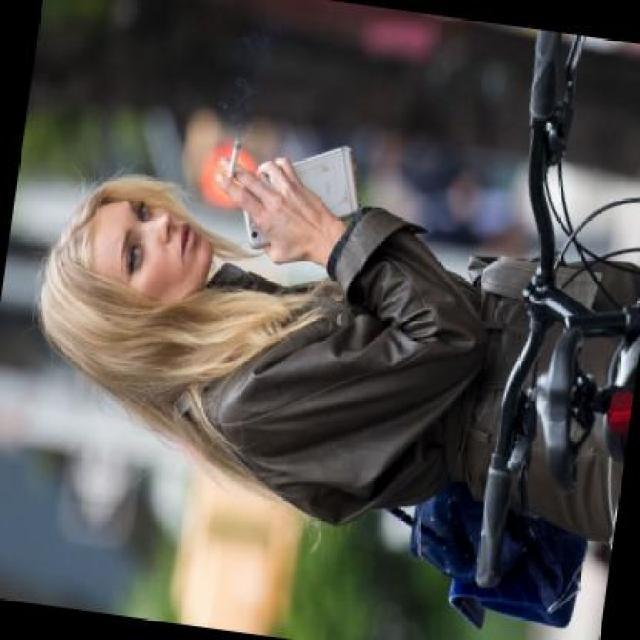cigarette: (223, 133, 243, 187)
